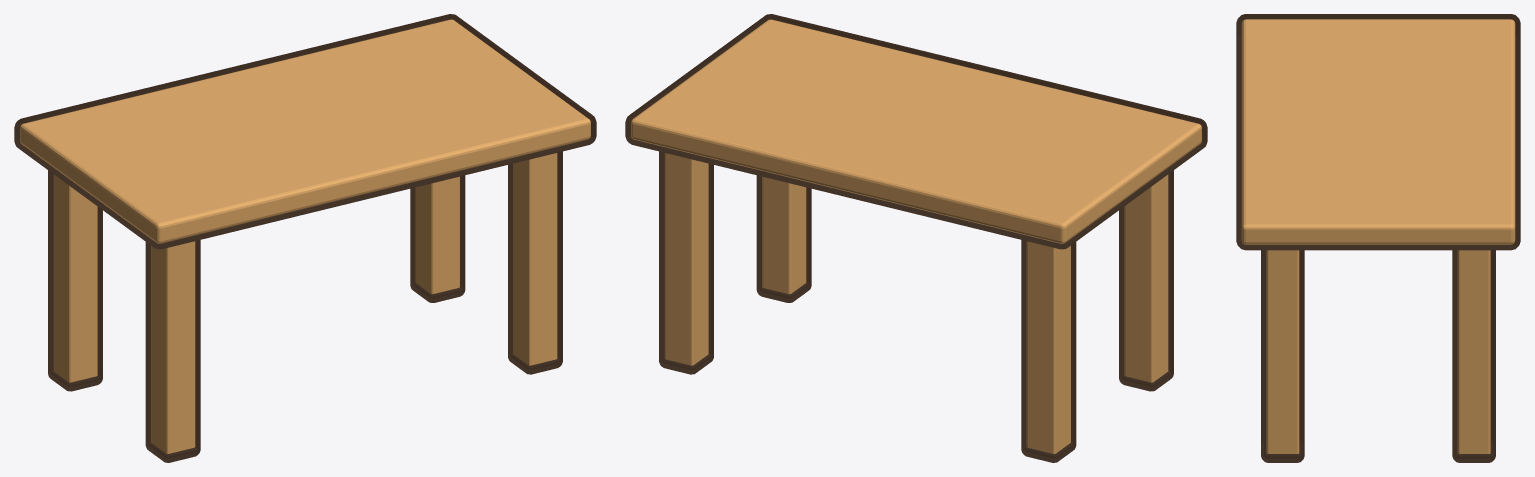
Rendered from mesa.glb.
3 views of the same model, side by side, from view 1: azimuth 30°, elevation 25°; view 2: azimuth 150°, elevation 25°; view 3: azimuth 270°, elevation 25° (orthographic). The views are drawn at different scales.
Parts seen in each view (by area): view 1: mesa, mesa_outline; view 2: mesa, mesa_outline; view 3: mesa, mesa_outline.
Part boxes in pixels (x1,y1,x2,y2): mesa: (20, 19, 590, 453); mesa_outline: (14, 14, 596, 462); mesa: (631, 19, 1201, 453); mesa_outline: (625, 14, 1207, 462); mesa: (1241, 19, 1515, 453); mesa_outline: (1236, 14, 1520, 462).
Bounding box in the file's own units: 1.84 × 1.02 × 1.04.
